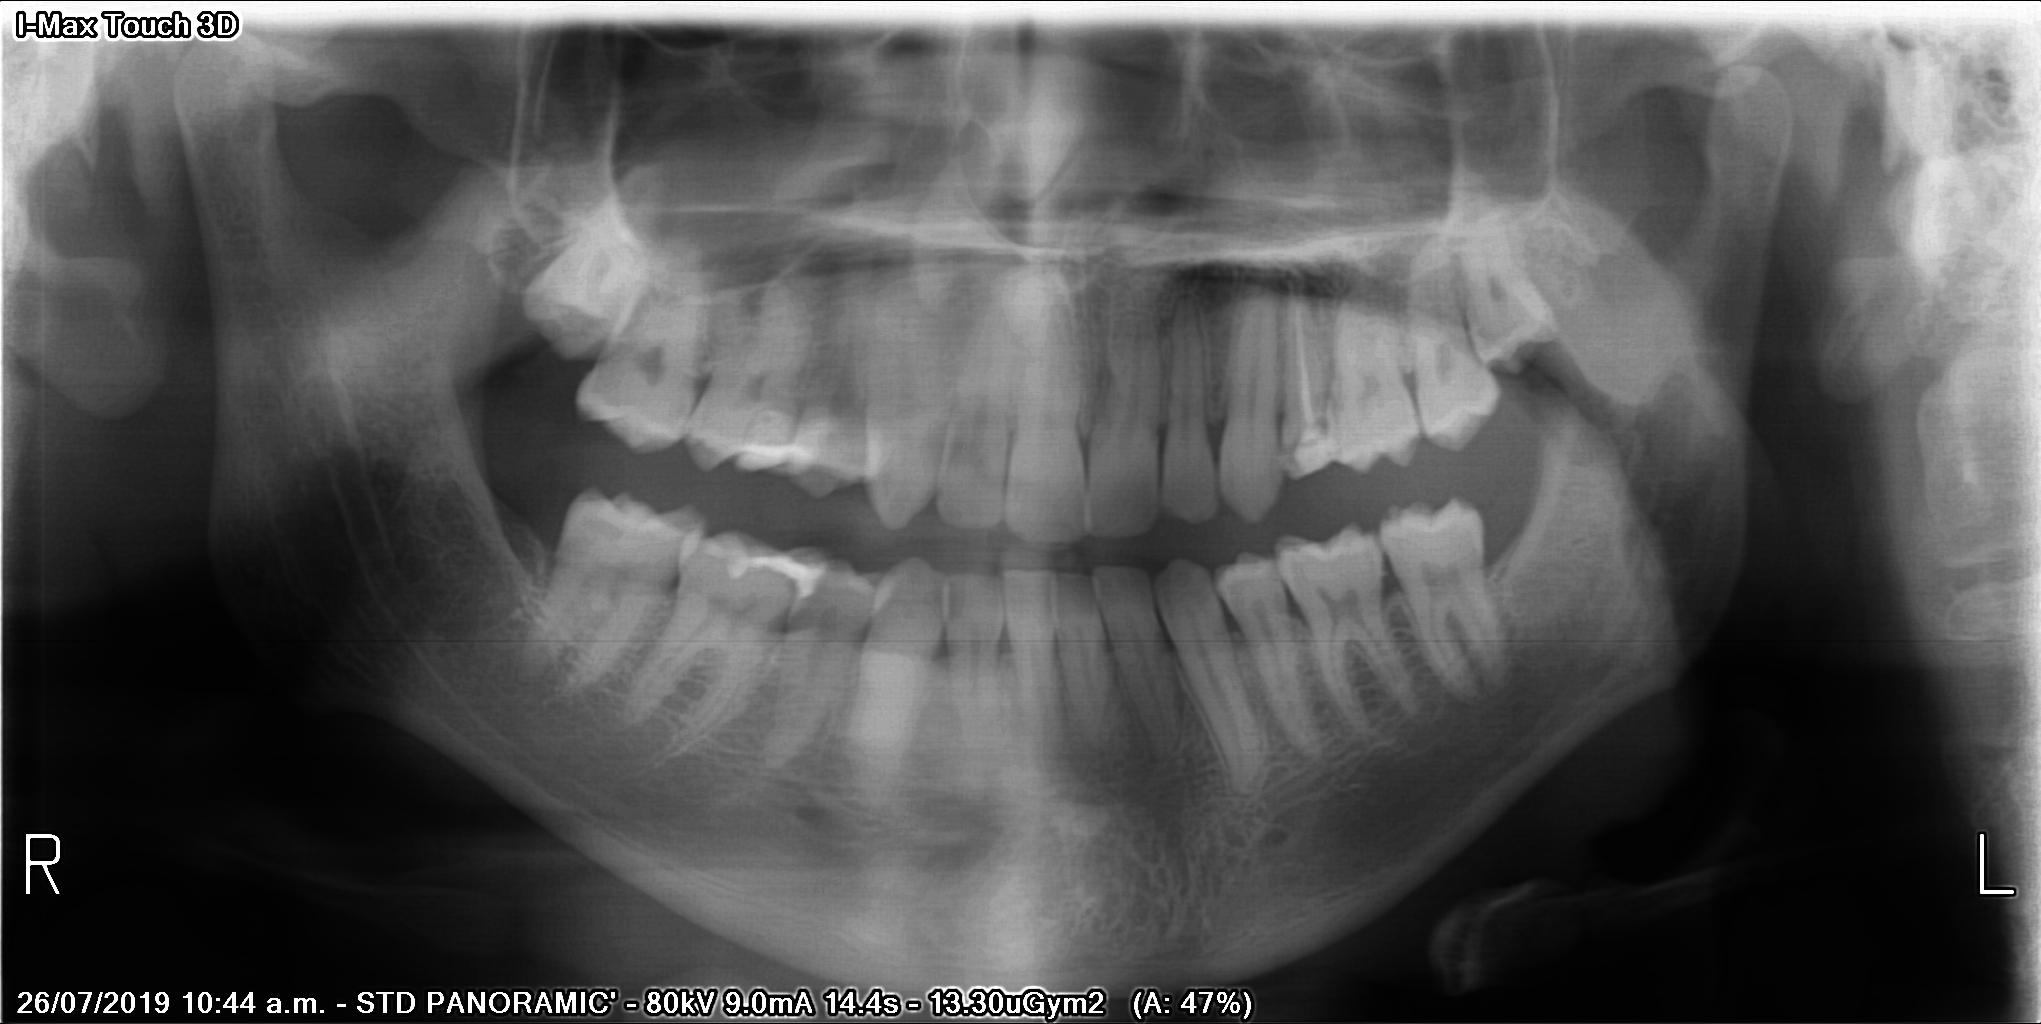Çürük: (739, 542, 838, 610), (739, 438, 815, 496), (1295, 428, 1338, 472)
Çürük Bölgesi: (1307, 413, 1341, 440)
